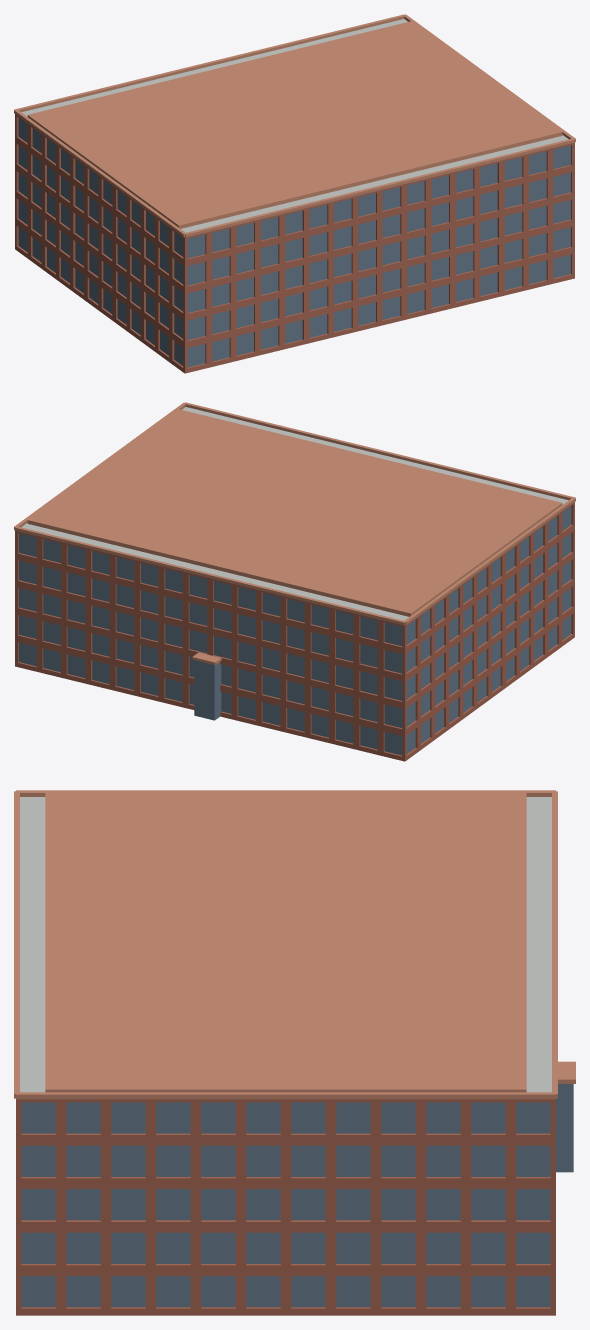
Rendered from hospital_opd.far.glb.
3 renders of one model, top to bottom at view 1: azimuth 30°, elevation 25°; view 2: azimuth 150°, elevation 25°; view 3: azimuth 270°, elevation 25°, orthographic. The views are drawn at different scales.
Visible parts, largest first — view 1: trim, wall, glass, roof; view 2: trim, glass, wall, roof; view 3: trim, glass, wall, roof.
Part boxes in pixels (x1,y1,x2,y2): trim: (14, 14, 575, 237); wall: (15, 114, 574, 373); glass: (18, 118, 570, 367); roof: (21, 19, 568, 232); trim: (14, 402, 575, 665); glass: (19, 506, 571, 755); wall: (15, 502, 574, 761); roof: (21, 407, 568, 620); trim: (14, 790, 575, 1099); glass: (21, 1084, 573, 1307); wall: (16, 1099, 555, 1315); roof: (20, 797, 551, 1092).
Size of the model in its own units: 61.34 by 21 by 47.87.
